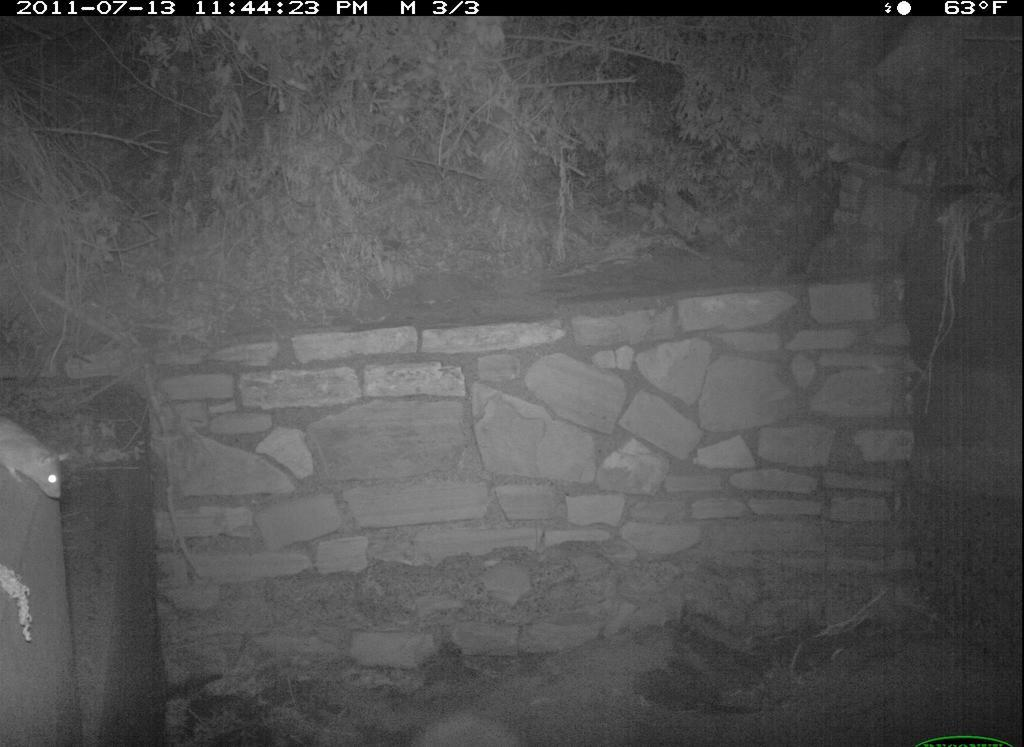rodent: (1, 390, 76, 510)
